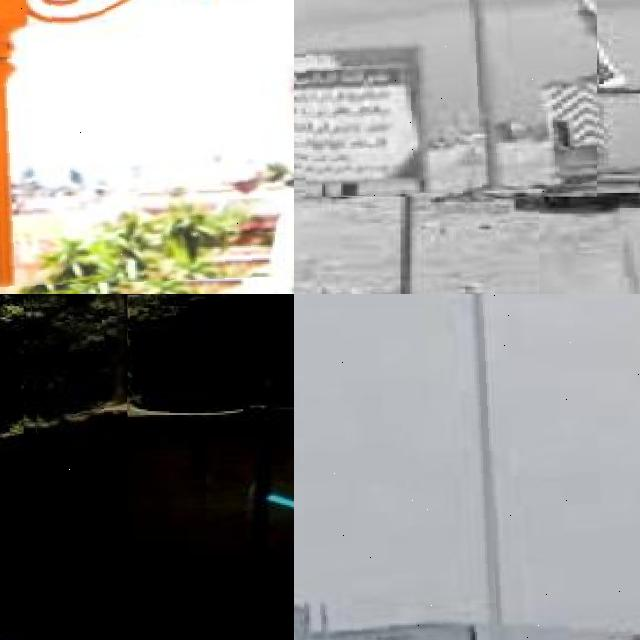street light: (304, 294, 640, 640), (0, 0, 294, 294), (306, 0, 597, 196), (23, 294, 127, 640)
